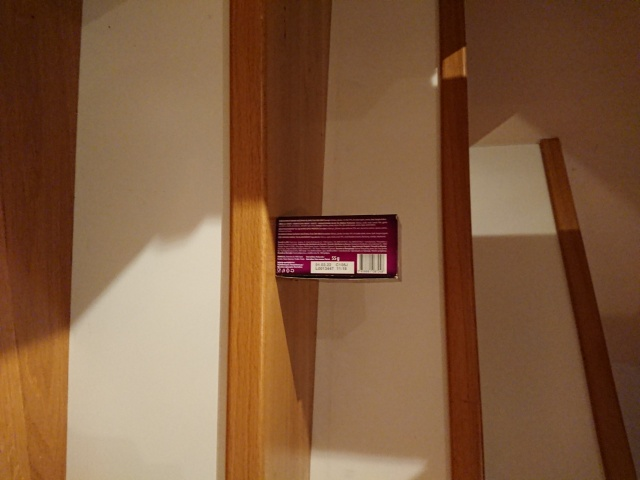Franck Black Currant Tea 60g: (272, 211, 404, 285)
